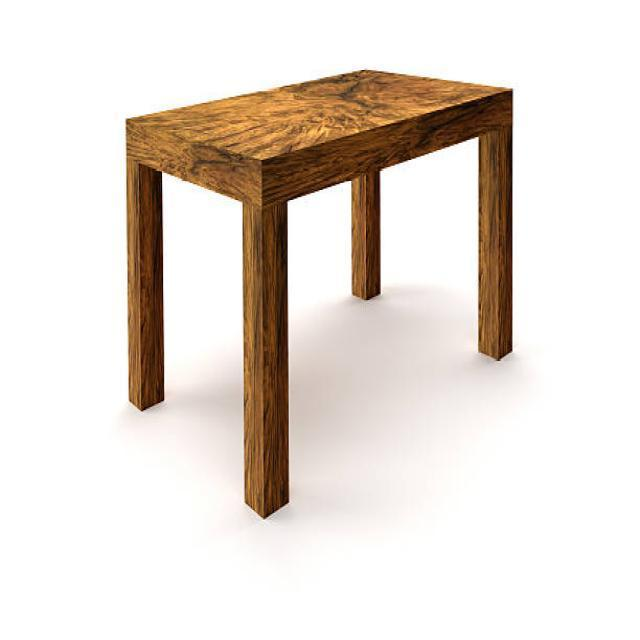table: (124, 67, 514, 519)
